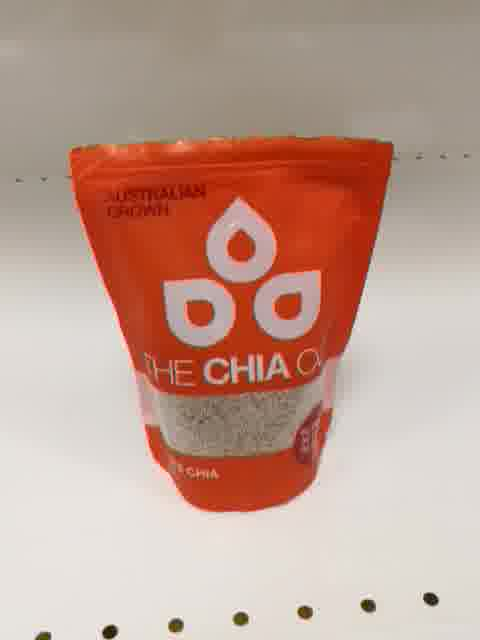whitechia: (69, 132, 395, 517)
